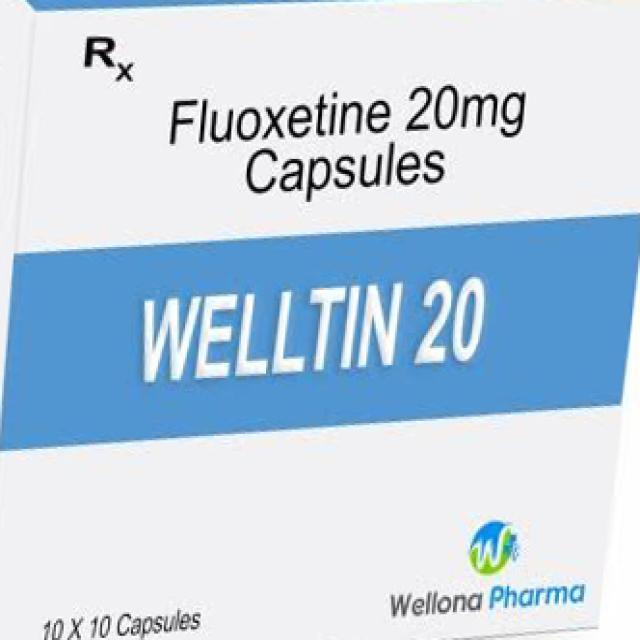drug-name: (132, 265, 492, 386)
